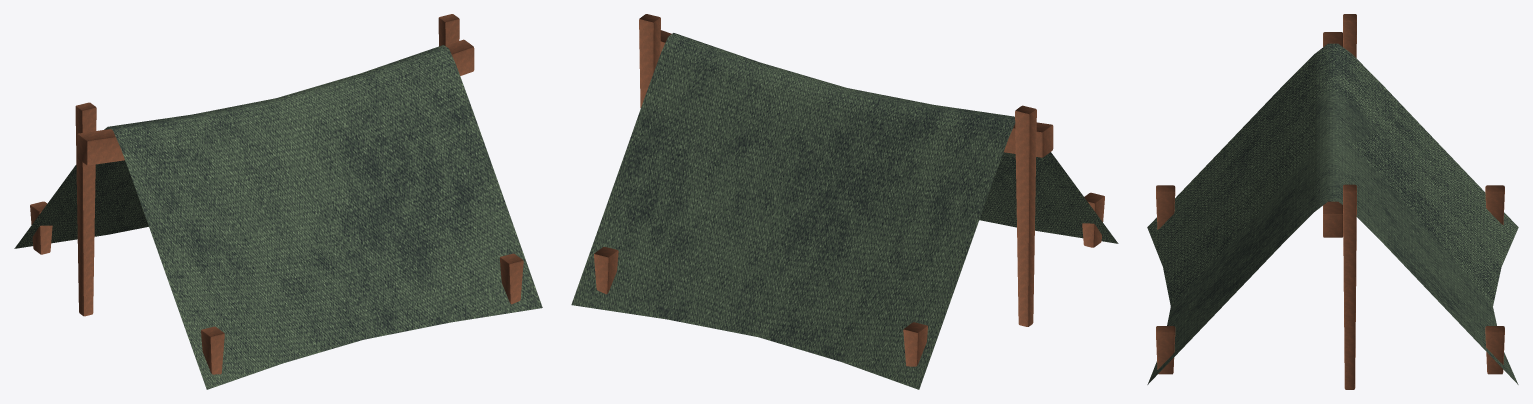
Rendered from cadir.FBX.
3 views of the same model, side by side, from view 1: azimuth 30°, elevation 25°; view 2: azimuth 150°, elevation 25°; view 3: azimuth 270°, elevation 25° (orthographic). The views are drawn at different scales.
Visible parts, largest first — view 1: Plane004; view 2: Plane004; view 3: Plane004.
Boxes of the visible parts, left/top/right/bottom form: Plane004: left=14, top=14, right=542, bottom=389; Plane004: left=571, top=14, right=1118, bottom=389; Plane004: left=1147, top=14, right=1518, bottom=389.
Bounding box in the file's own units: 160 × 83.1 × 138.
2 materials, 2 textured.
